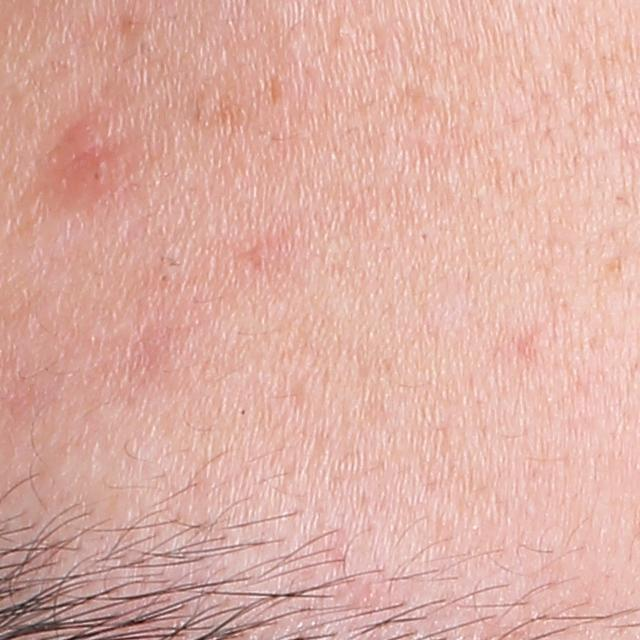comedo: (152, 268, 177, 288)
papule: (52, 121, 124, 196)
